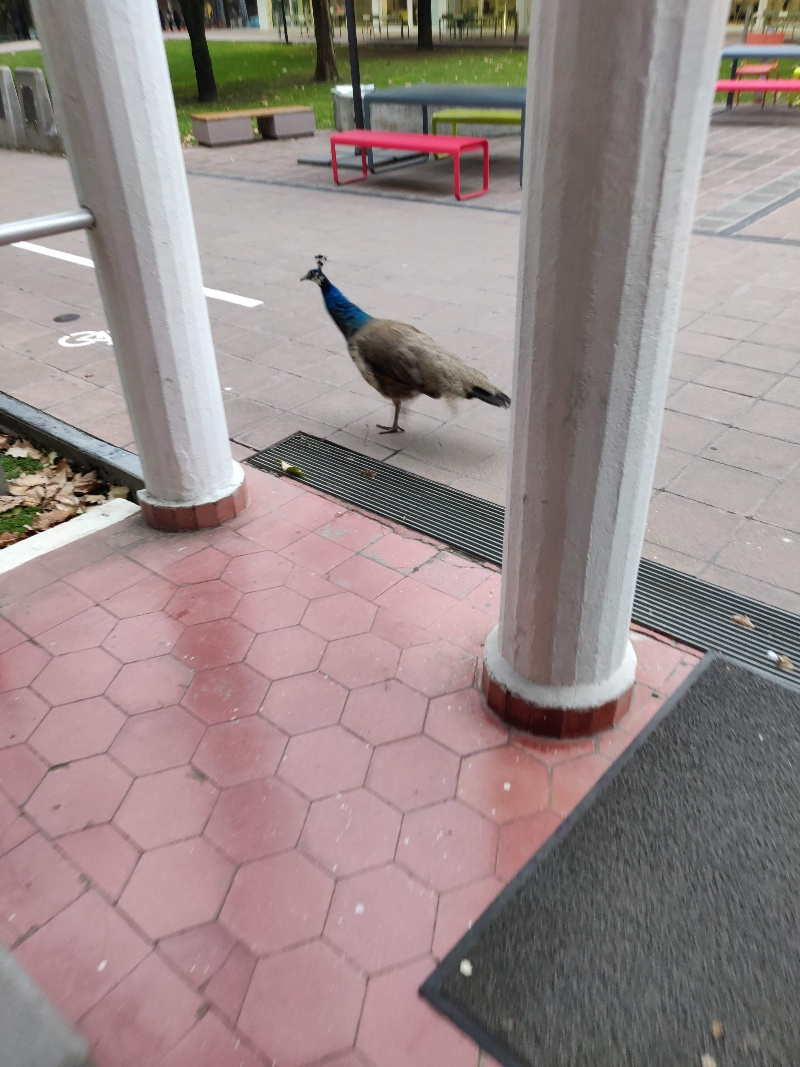pavoreal: (299, 250, 504, 428)
